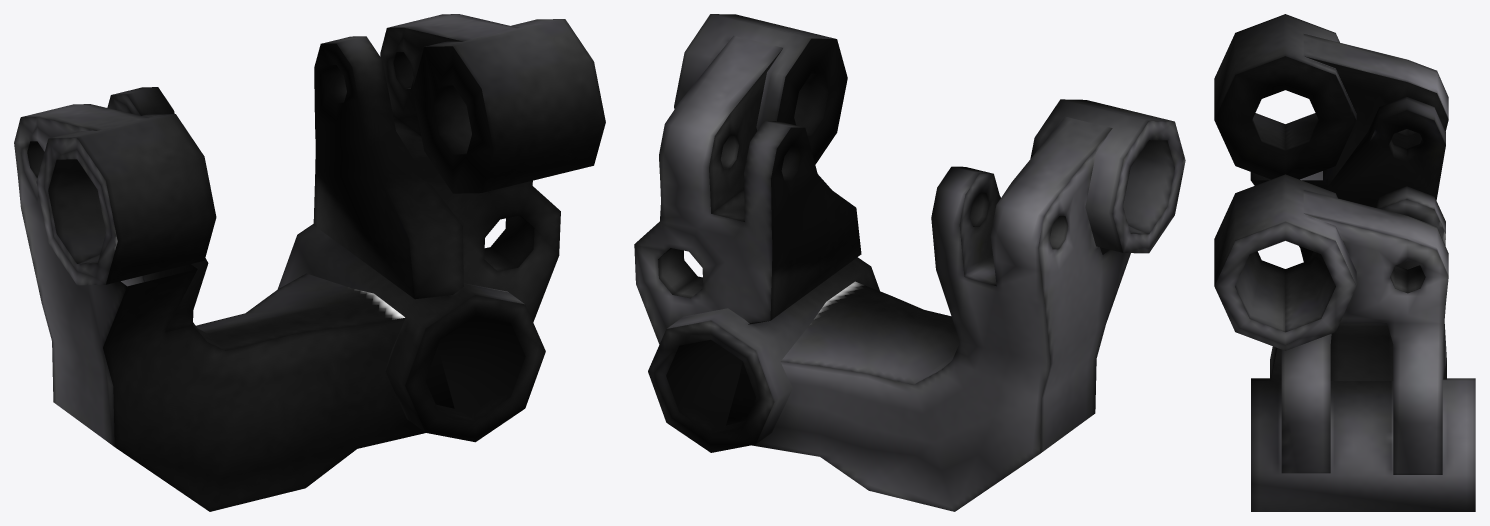
The model's file is l_lglut.dae.
The picture shows the model from 3 angles, left to right: view 1: azimuth 30°, elevation 25°; view 2: azimuth 150°, elevation 25°; view 3: azimuth 270°, elevation 25°; orthographic projection. The views are drawn at different scales.
Parts seen in each view (by area): view 1: l_lglut; view 2: l_lglut; view 3: l_lglut.
Boxes of the visible parts, x1,y1,x2,y2 form: l_lglut: (14,14,605,511); l_lglut: (634,14,1185,511); l_lglut: (1214,14,1475,511).
Size of the model in its own units: 0.1439 by 0.0762 by 0.1175.
1 material, 1 textured.
